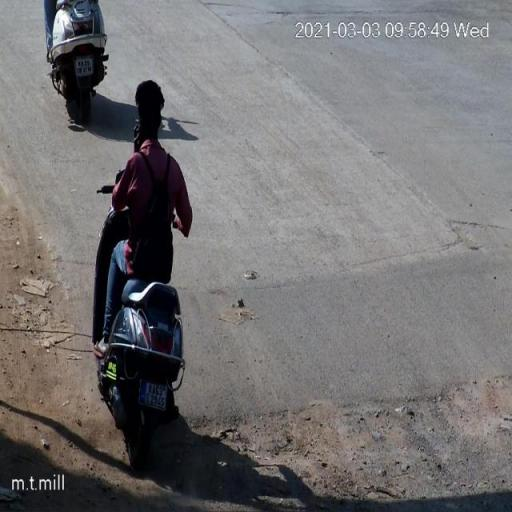using mobile: (130, 120, 144, 152)
